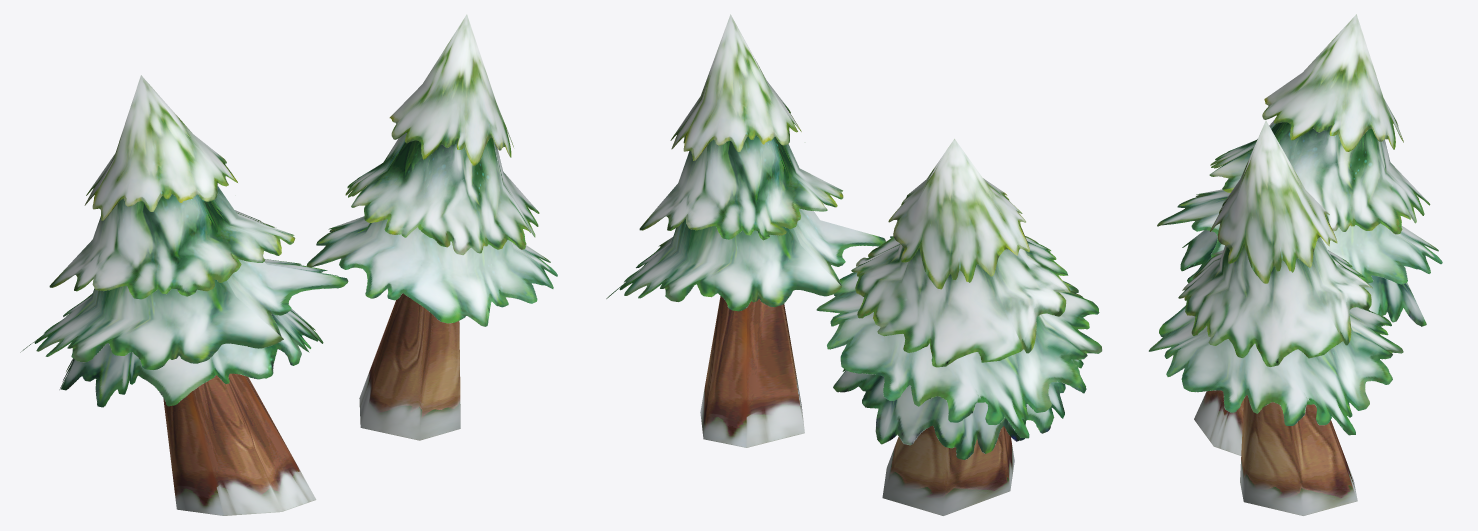
Rendered from SM_tree_04.fbx.
3 renders of one model, left to right at view 1: azimuth 30°, elevation 25°; view 2: azimuth 150°, elevation 25°; view 3: azimuth 270°, elevation 25°, orthographic. The views are drawn at different scales.
Visible parts, largest first — view 1: SM_tree_04; view 2: SM_tree_04; view 3: SM_tree_04.
Part boxes in pixels (bbox=[...]): SM_tree_04: bbox=[20, 14, 557, 515]; SM_tree_04: bbox=[606, 14, 1102, 515]; SM_tree_04: bbox=[1148, 14, 1442, 515].
Size of the model in its own units: 3.37 by 2.79 by 1.91.
